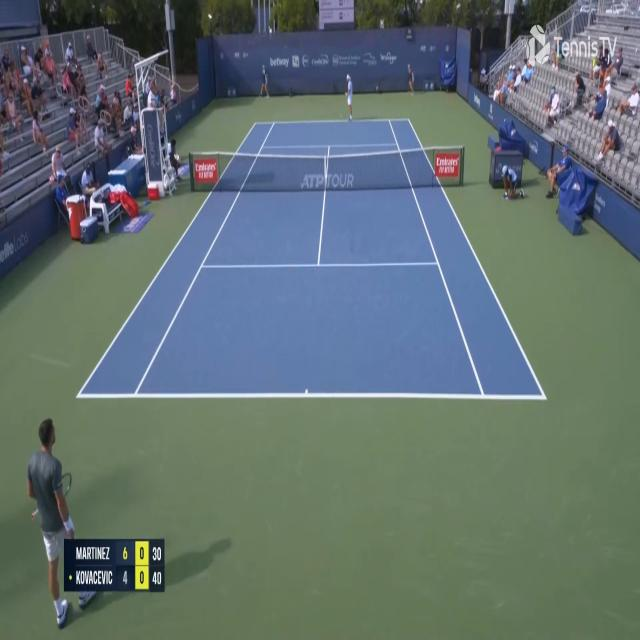tennis-player: (25, 410, 78, 634), (343, 73, 355, 123)
